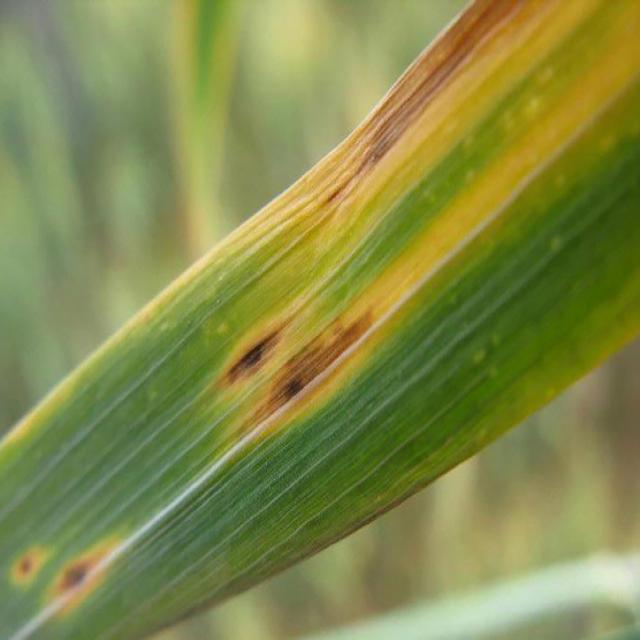wheat-septoria: (326, 0, 527, 195), (241, 310, 377, 437), (219, 318, 291, 382), (59, 542, 117, 601), (16, 552, 45, 582)
